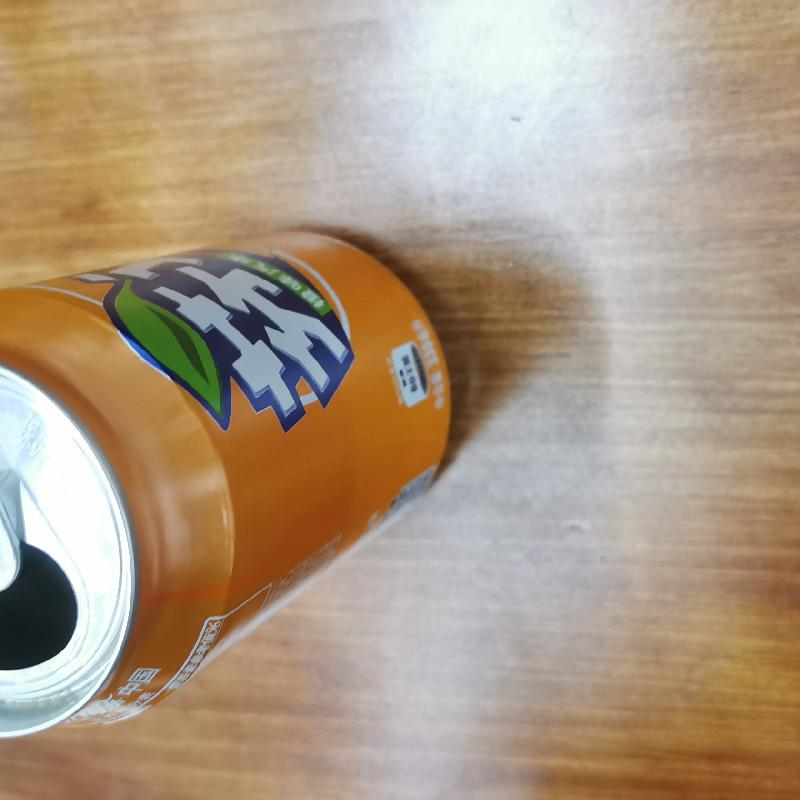cans: (1, 218, 452, 742)
